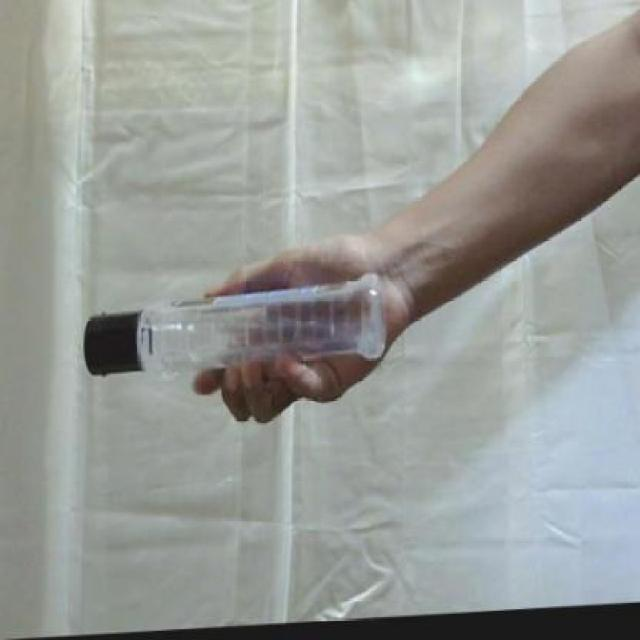Plastic: (79, 269, 396, 393)
